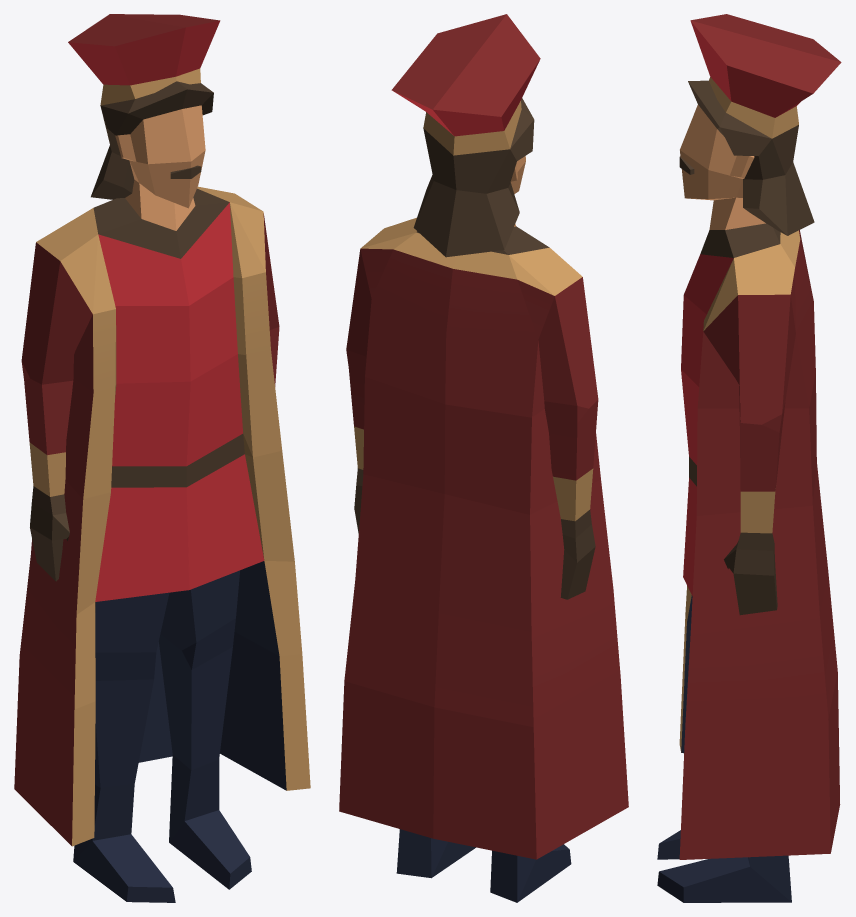
Rendered from people_man-king.fbx.
The picture shows the model from 3 angles, left to right: view 1: azimuth 30°, elevation 25°; view 2: azimuth 150°, elevation 25°; view 3: azimuth 270°, elevation 25°; orthographic projection. The views are drawn at different scales.
Parts seen in each view (by area): view 1: people_man_king; view 2: people_man_king; view 3: people_man_king.
Boxes of the visible parts, x1,y1,x2,y2 form: people_man_king: (14,14,310,902); people_man_king: (339,14,628,902); people_man_king: (657,14,841,902).
Size of the model in its own units: 58.53 by 200 by 39.17.
